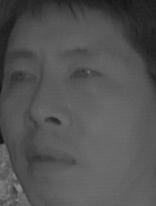eye: (69, 64, 104, 85), (7, 67, 38, 87)
mouth: (19, 140, 77, 178)
